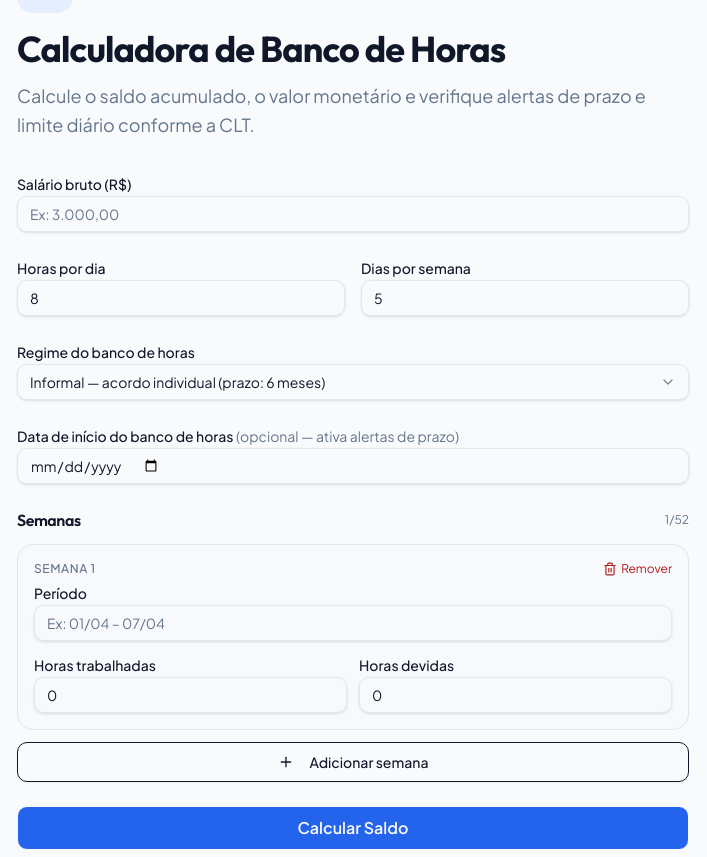
BancoDeHorasPage — lista dinâmica de semanas (Task 4.2) › submissão com valores conhecidos exibe o resultado de saldo
The image size is (707, 857).
Type "3000" into the field labelled "Salário bruto (R$)".
click(353, 214); type("3000")  # box left=17, top=196, right=689, bottom=232
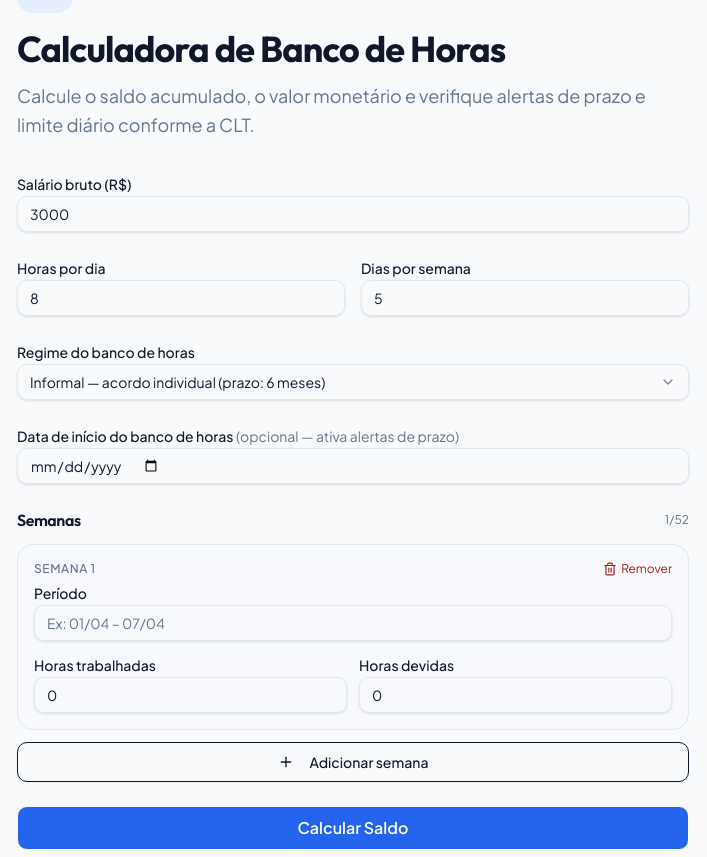
Type "Semana 1" into the field labelled "Período".
click(353, 622); type("Semana 1")  # box left=34, top=604, right=672, bottom=640
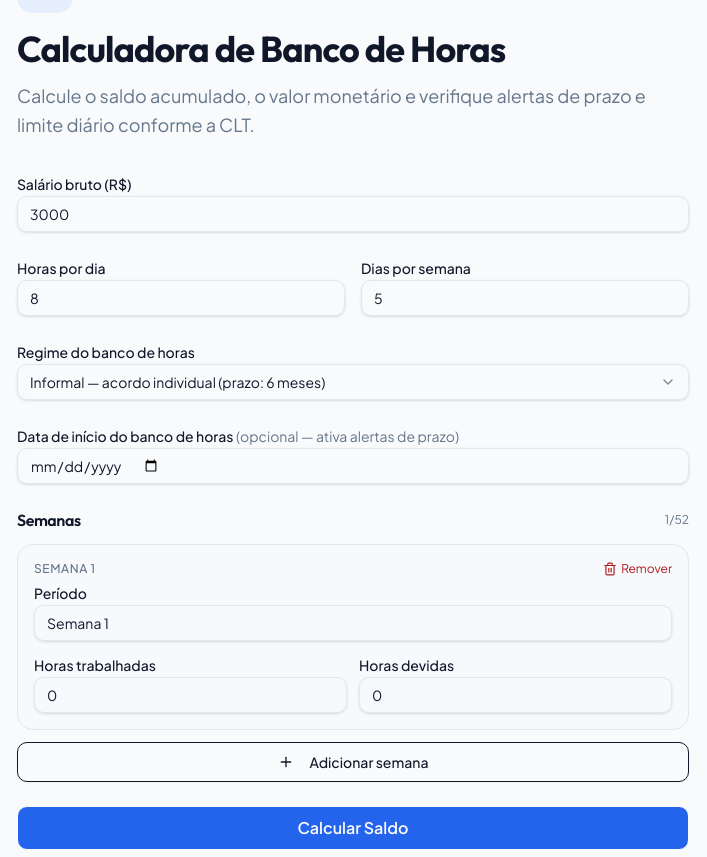
Replace the text in the number field labelled "Horas trabalhadas" with "45" at (190, 694), box left=34, top=676, right=347, bottom=712
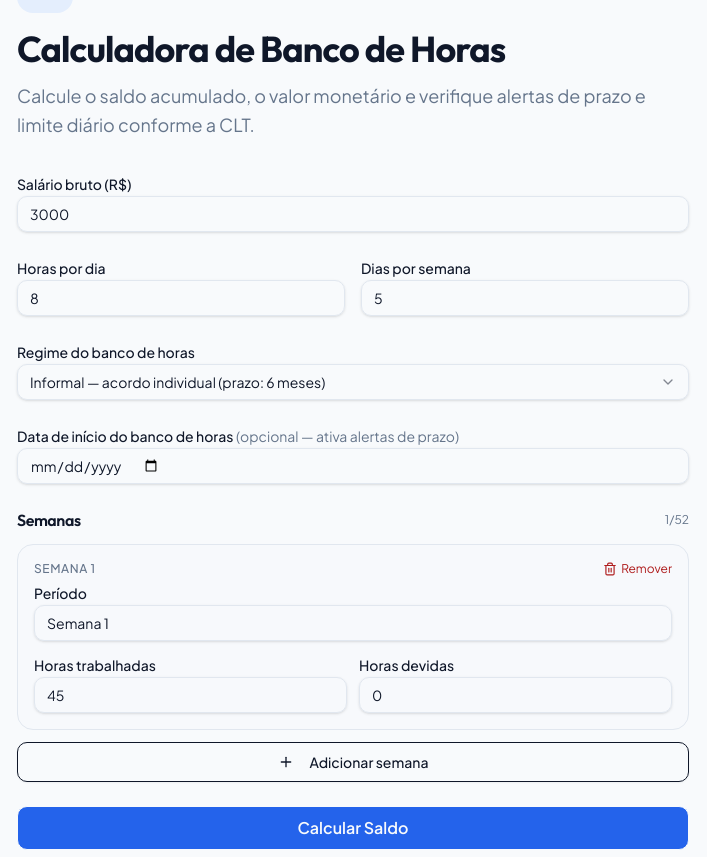
Replace the text in the number field labelled "Horas devidas" with "40" at (516, 694), box left=359, top=676, right=672, bottom=712
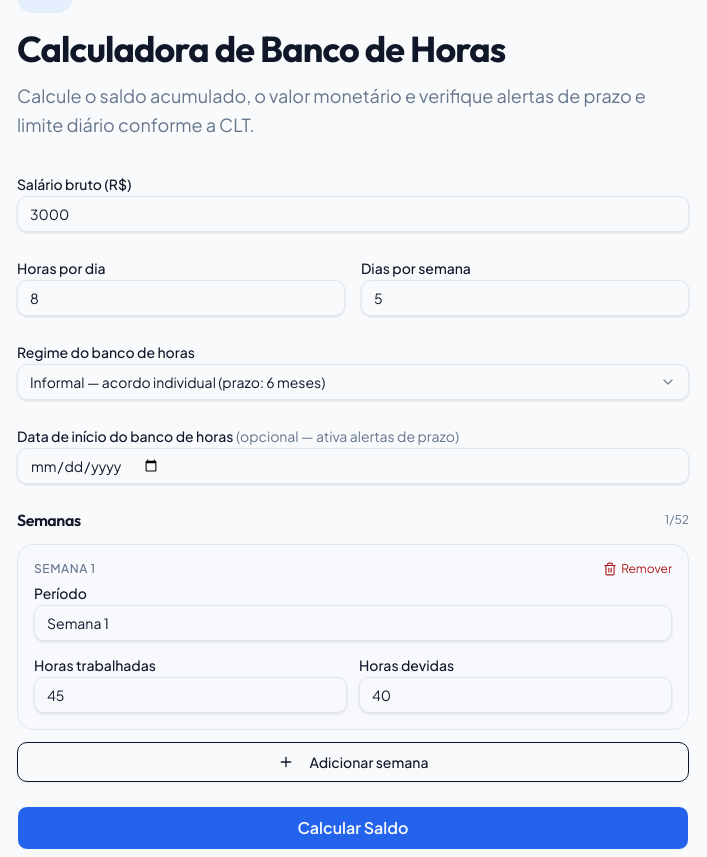
Click the button "Calcular Saldo".
click(353, 828)  # box left=17, top=806, right=689, bottom=850
(page scrolled)
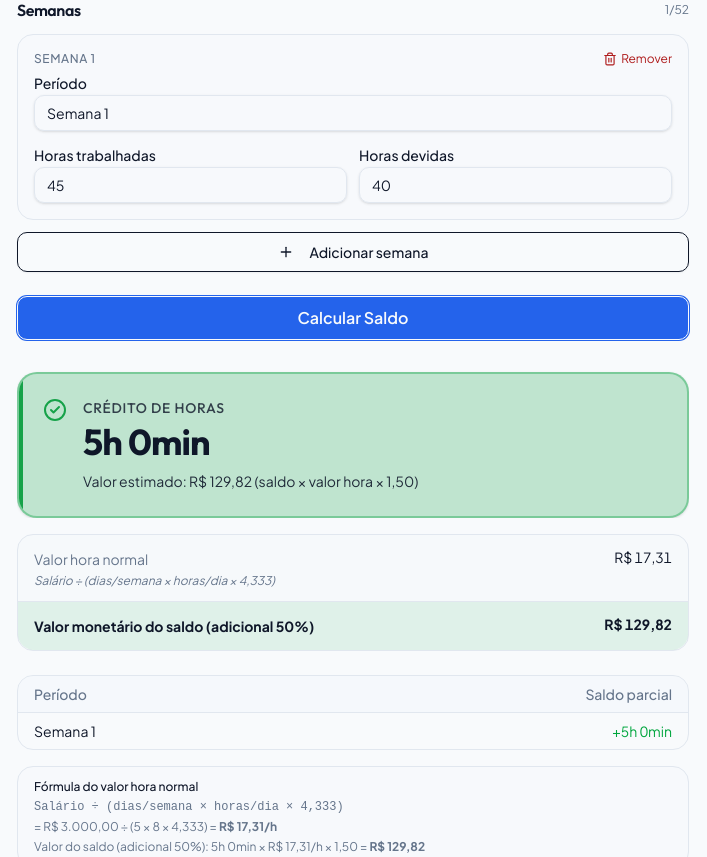
Expected: the heading "Crédito de horas" is shown, left=83, top=398, right=225, bottom=416
